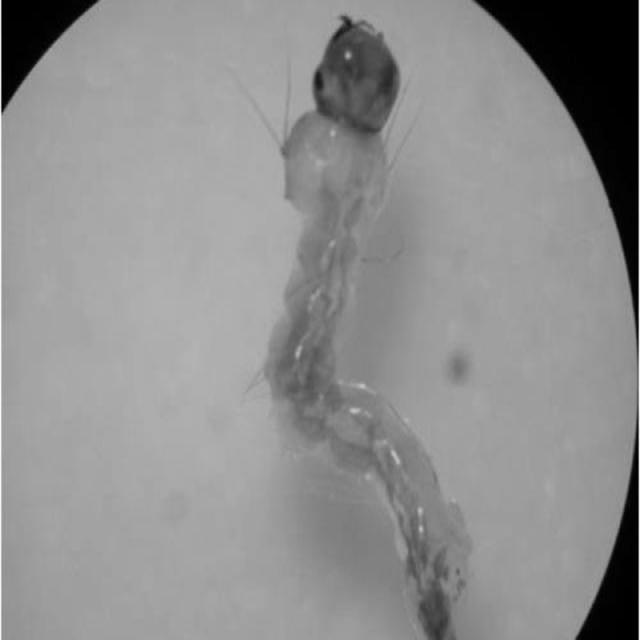larvas: (278, 0, 469, 640)
